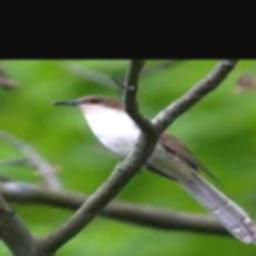Cuckoo: (51, 95, 256, 245)
